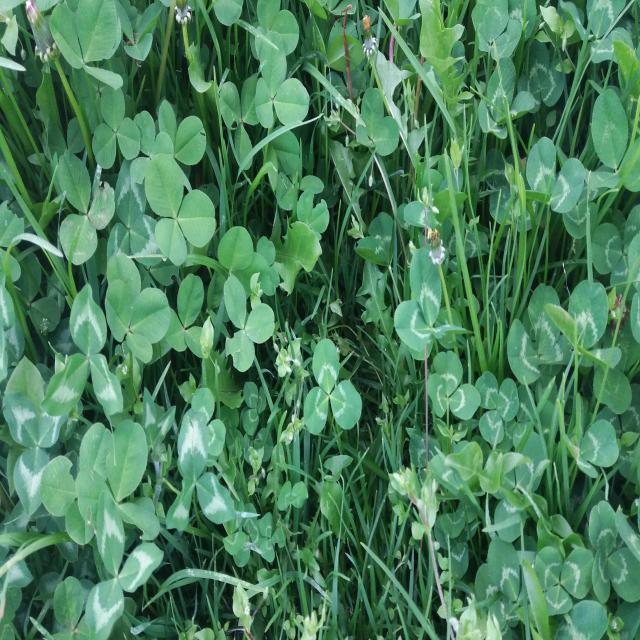Four Leaf Clover: (105, 252, 171, 364)
